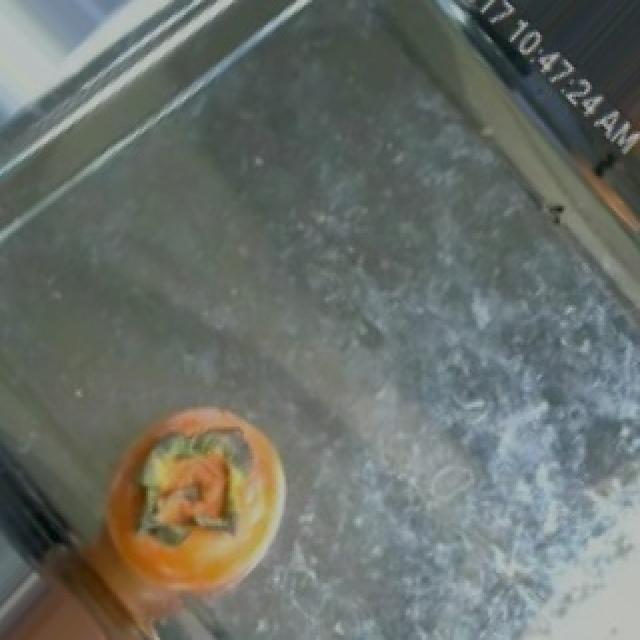Fruit: (60, 384, 310, 632), (484, 516, 640, 640)
